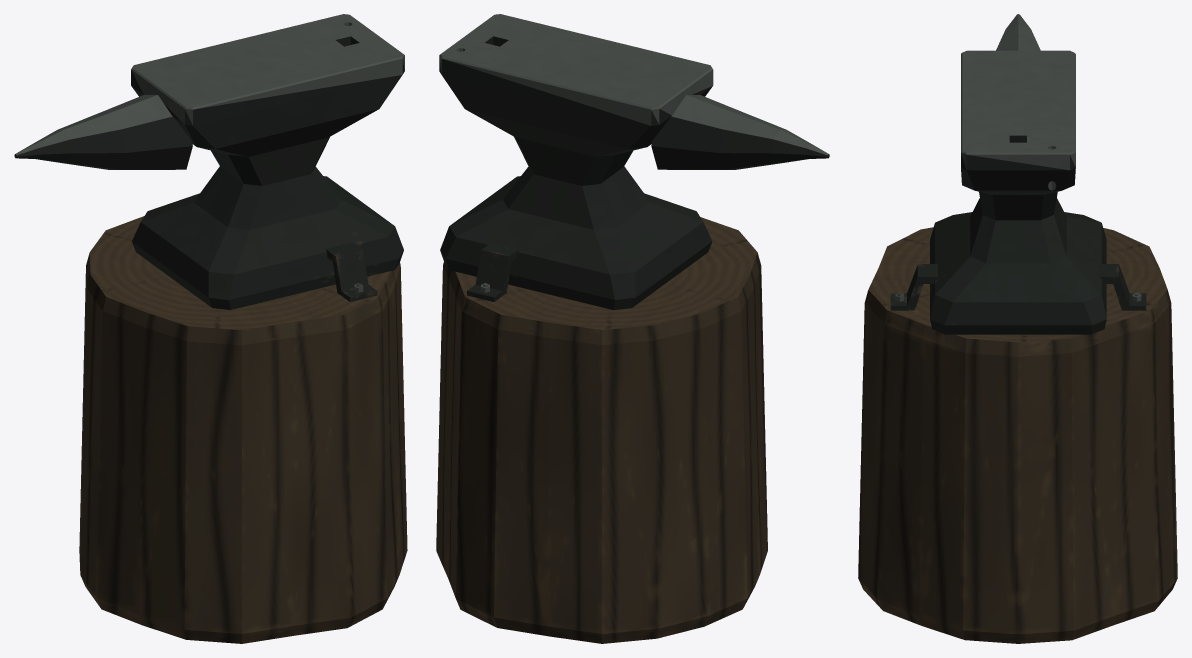
Rendered from anvil_stump.glb.
3 renders of one model, left to right at view 1: azimuth 30°, elevation 25°; view 2: azimuth 150°, elevation 25°; view 3: azimuth 270°, elevation 25°, orthographic. The views are drawn at different scales.
Visible parts, largest first — view 1: AnvilStumpMesh; view 2: AnvilStumpMesh; view 3: AnvilStumpMesh.
Boxes of the visible parts, box(x1,y1,x2,y2) form: AnvilStumpMesh: box(14, 14, 407, 643); AnvilStumpMesh: box(436, 14, 829, 643); AnvilStumpMesh: box(858, 14, 1177, 643).
Size of what is drawn, in the model's own units: 0.5743 by 0.75 by 0.445.
Materials: 1 (1 with a texture image).
